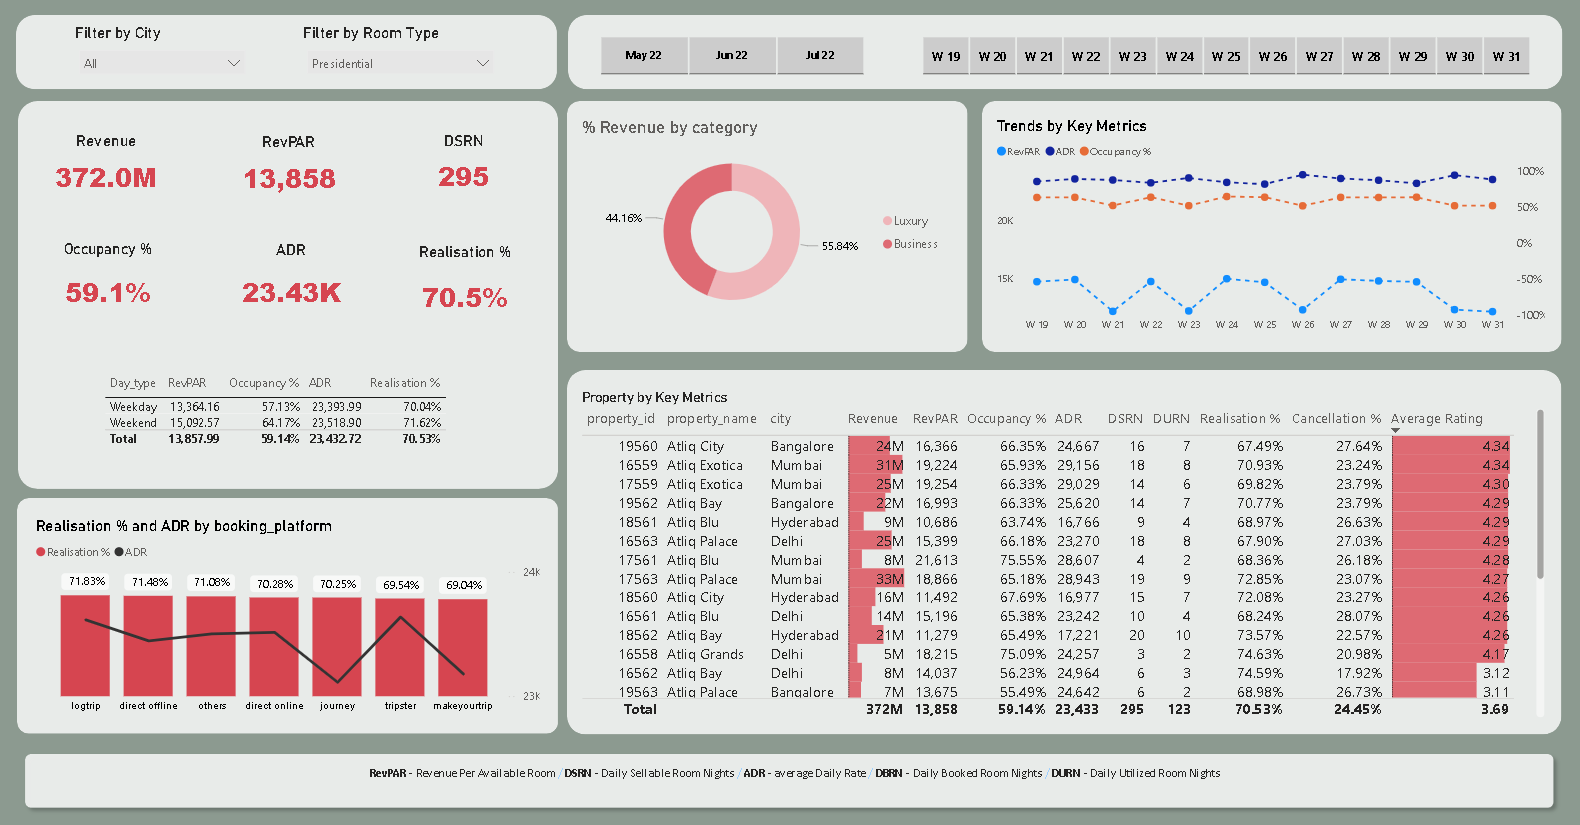

Layout of this report page (visuals, bound fields, positions):
{"tool":"powerbi","page":{"name":"Page 1","canvas":[1800,1100],"ordinal":0},"visuals":[{"type":"shape","box":[654.3,565.5,1105,405],"z":0},{"type":"shape","box":[42.8,708,601.5,262],"z":1000},{"type":"shape","box":[44.1,266.6,600.2,431.1],"z":2000},{"type":"shape","box":[1115.4,266.6,644.1,278.8],"z":2000,"group":"g9"},{"type":"shape","box":[654.6,266.6,445.3,278.8],"z":3000,"group":"g9"},{"type":"tableEx","title":"Property by Key Metrics","fields":{"Values":["dim_hotels.property_id","dim_hotels.property_name","dim_hotels.city","Key_measures.Revenue","Key_measures.RevPAR","Key_measures.Occupancy %","Key_measures.ADR","Key_measures.DSRN","Key_measures.DURN","Key_measures.Realisation %","Key_measures.Cancellation %","Key_measures.Average Rating"]},"box":[666,585,1080,371],"z":3000},{"type":"lineStackedColumnComboChart","fields":{"Category":["fact_bookings.booking_platform"],"Y":["Key_measures.Realisation %"],"Y2":["Key_measures.ADR"]},"box":[58.3,728.7,570.5,227.2],"z":4000},{"type":"shape","box":[655,171.2,1105,82.5],"z":5000,"group":"g8"},{"type":"tableEx","fields":{"Values":["dim_date.day_type","Key_measures.RevPAR","Key_measures.Occupancy %","Key_measures.ADR","Key_measures.Realisation %"]},"box":[135.5,565.2,395,107],"z":5000},{"type":"shape","box":[42.5,171.2,601.2,82.5],"z":6000,"group":"g7"},{"type":"group","id":"g1","title":"Group 1","box":[73,301.2,138.1,80.8],"z":6000},{"type":"group","id":"g2","title":"Group 2","box":[277,302.2,136.8,82.6],"z":7000},{"type":"slicer","title":"Filter by City","fields":{"Values":["dim_hotels.city"]},"box":[102.5,181.2,205,56.2],"z":8000,"group":"g7"},{"type":"group","id":"g3","title":"Group 3","box":[466,301.2,148.4,79.6],"z":8000},{"type":"slicer","title":"Filter by Room Type","fields":{"Values":["dim_rooms.room_class"]},"box":[356.3,181.2,227.5,55],"z":9000,"group":"g7"},{"type":"card","title":"Revenue","fields":{"Values":["Key_measures.Revenue"]},"box":[73,301.2,138.1,80.8],"z":9000,"group":"g1"},{"type":"group","id":"g4","title":"Group 4","box":[75.4,421.2,138.1,96.5],"z":9000},{"type":"donutChart","title":"% Revenue by category","fields":{"Category":["dim_hotels.category"],"Y":["Key_measures.Revenue"]},"box":[666.2,284.5,416,233],"z":10000,"group":"g9"},{"type":"group","id":"g5","title":"Group 5","box":[278.8,422.5,138.1,95.1],"z":10000},{"type":"card","title":"Realisation %","fields":{"Values":["Key_measures.Realisation %"]},"box":[468.9,424.4,145,102],"z":10000,"group":"g6"},{"type":"lineChart","title":"Trends by Key Metrics","fields":{"Category":["dim_date.mmm yy.Variation.Date Hierarchy.Month","dim_date.week no"],"Y":["Key_measures.RevPAR","Key_measures.ADR"],"Y2":["Key_measures.Occupancy %"]},"box":[1127.2,284.5,619,247],"z":11000,"group":"g9"},{"type":"group","id":"g6","title":"Group 6","box":[468.9,424.4,145,102],"z":11000},{"type":"shape","box":[43.8,983.8,1716.2,77.5],"z":12000},{"type":"textbox","box":[396.2,998.8,988.8,46.2],"z":13000},{"type":"group","id":"g7","title":"Group 7","box":[42.5,171.2,601.2,82.5],"z":14000},{"type":"group","id":"g8","title":"Group 8","box":[655,171.2,1105,82.5],"z":15000},{"type":"card","title":"RevPAR","fields":{"Values":["Key_measures.RevPAR"]},"box":[277,302.2,136.8,82.6],"z":15000,"group":"g2"},{"type":"group","id":"g9","title":"Group 9","box":[654.6,266.6,1104.8,278.8],"z":16000},{"type":"card","title":"DSRN","fields":{"Values":["Key_measures.DSRN"]},"box":[466,301.2,148.4,79.6],"z":16000,"group":"g3"},{"type":"slicer","fields":{"Values":["dim_date.mmm yy"]},"box":[666.2,188.7,341.2,55],"z":20000,"group":"g8"},{"type":"slicer","fields":{"Values":["dim_date.week no"]},"box":[1024,189,723,55],"z":21000,"group":"g8"},{"type":"card","title":"Occupancy %","fields":{"Values":["Key_measures.Occupancy %"]},"box":[75.4,421.2,138.1,96.5],"z":21500,"group":"g4"},{"type":"card","title":"ADR","fields":{"Values":["Key_measures.ADR"]},"box":[278.8,422.5,138.1,95.1],"z":22500,"group":"g5"}]}

Visuals, with their boxes on the page's 1800x1100 design canvas (x1, y1, x2, y2). These are canvas units, not pixel positions in the 1580x825 screenshot, which may show the page scaled, cropped or inside an application window:
shape: box=[654, 566, 1759, 970]
shape: box=[43, 708, 644, 970]
shape: box=[44, 267, 644, 698]
shape: box=[1115, 267, 1760, 545]
shape: box=[655, 267, 1100, 545]
"Property by Key Metrics" tableEx: box=[666, 585, 1746, 956]
lineStackedColumnComboChart - fact_bookings.booking_platform x Key_measures.Realisation %: box=[58, 729, 629, 956]
shape: box=[655, 171, 1760, 254]
tableEx - dim_date.day_type x Key_measures.RevPAR: box=[136, 565, 530, 672]
shape: box=[42, 171, 644, 254]
"Group 1" group: box=[73, 301, 211, 382]
"Group 2" group: box=[277, 302, 414, 385]
"Filter by City" slicer: box=[102, 181, 308, 237]
"Group 3" group: box=[466, 301, 614, 381]
"Filter by Room Type" slicer: box=[356, 181, 584, 236]
"Revenue" card: box=[73, 301, 211, 382]
"Group 4" group: box=[75, 421, 214, 518]
"% Revenue by category" donutChart: box=[666, 284, 1082, 518]
"Group 5" group: box=[279, 422, 417, 518]
"Realisation %" card: box=[469, 424, 614, 526]
"Trends by Key Metrics" lineChart: box=[1127, 284, 1746, 532]
"Group 6" group: box=[469, 424, 614, 526]
shape: box=[44, 984, 1760, 1061]
textbox: box=[396, 999, 1385, 1045]
"Group 7" group: box=[42, 171, 644, 254]
"Group 8" group: box=[655, 171, 1760, 254]
"RevPAR" card: box=[277, 302, 414, 385]
"Group 9" group: box=[655, 267, 1759, 545]
"DSRN" card: box=[466, 301, 614, 381]
slicer - dim_date.mmm yy: box=[666, 189, 1007, 244]
slicer - dim_date.week no: box=[1024, 189, 1747, 244]
"Occupancy %" card: box=[75, 421, 214, 518]
"ADR" card: box=[279, 422, 417, 518]
